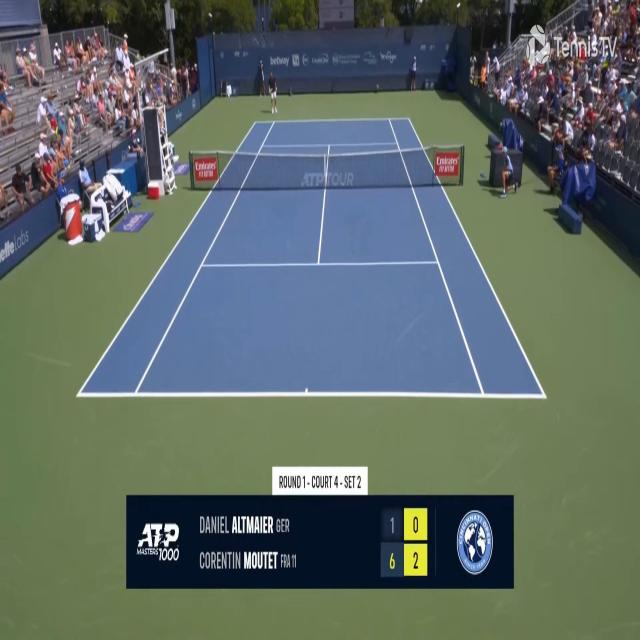tennis-player: (266, 66, 282, 116)
